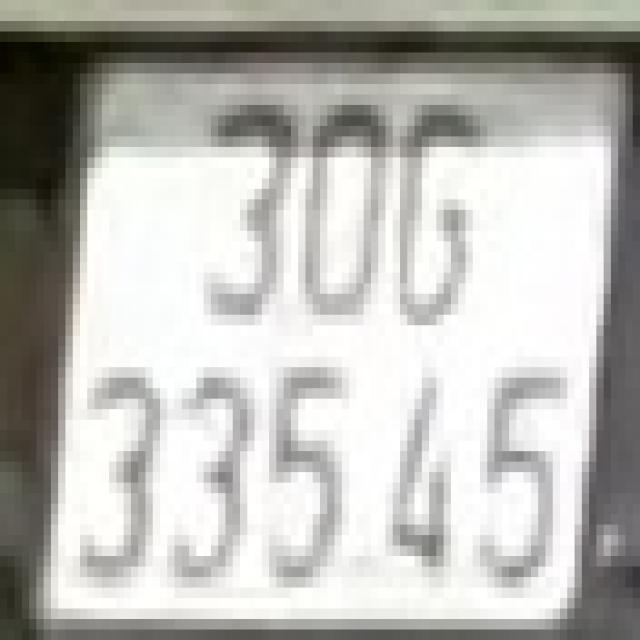0: (298, 94, 386, 326)
3: (196, 94, 291, 326), (72, 367, 160, 588), (168, 367, 248, 588)
4: (386, 357, 458, 588)
5: (262, 357, 350, 588), (480, 367, 568, 588)
G: (392, 94, 488, 326)
